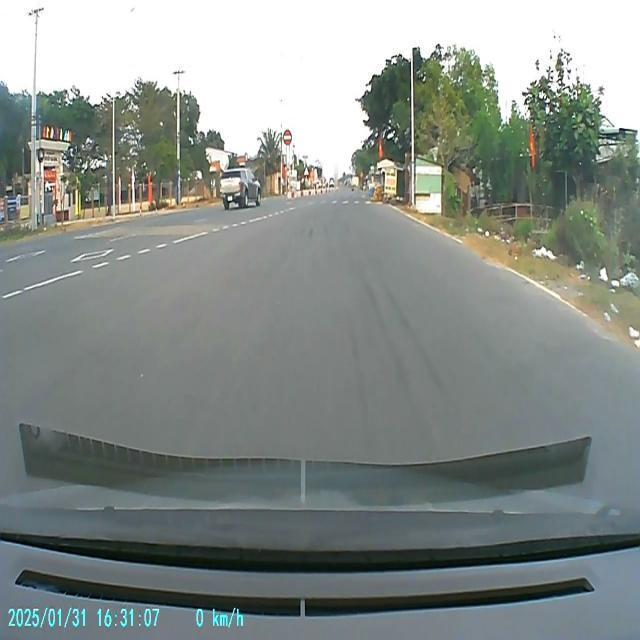102-cam-di-nguoc-chieu: (283, 128, 293, 146)
